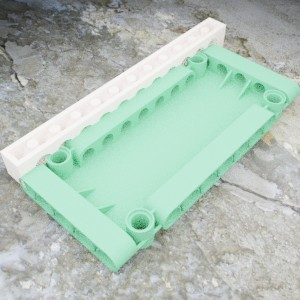lego: (18, 44, 300, 271), (0, 17, 226, 188)
